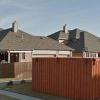Chimney: (9, 17, 22, 39)
